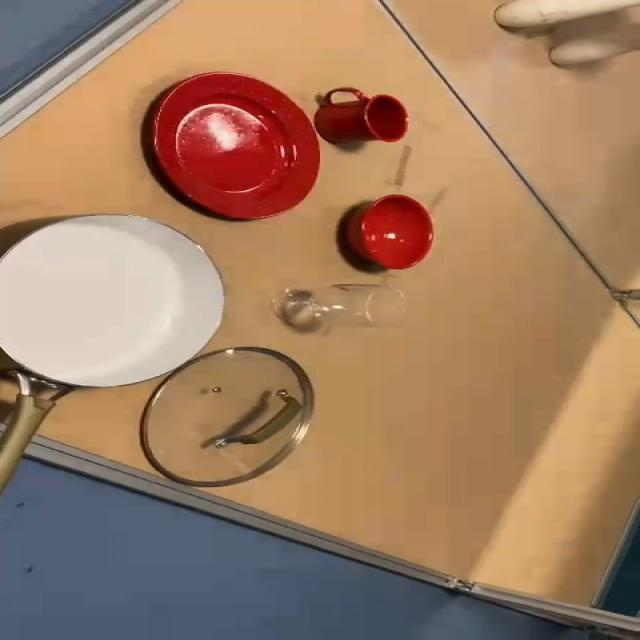Bowl: (340, 195, 438, 271)
Glass: (268, 280, 410, 333)
Plate: (148, 66, 322, 223)
cup: (310, 90, 415, 145)
pot: (0, 214, 237, 502)
